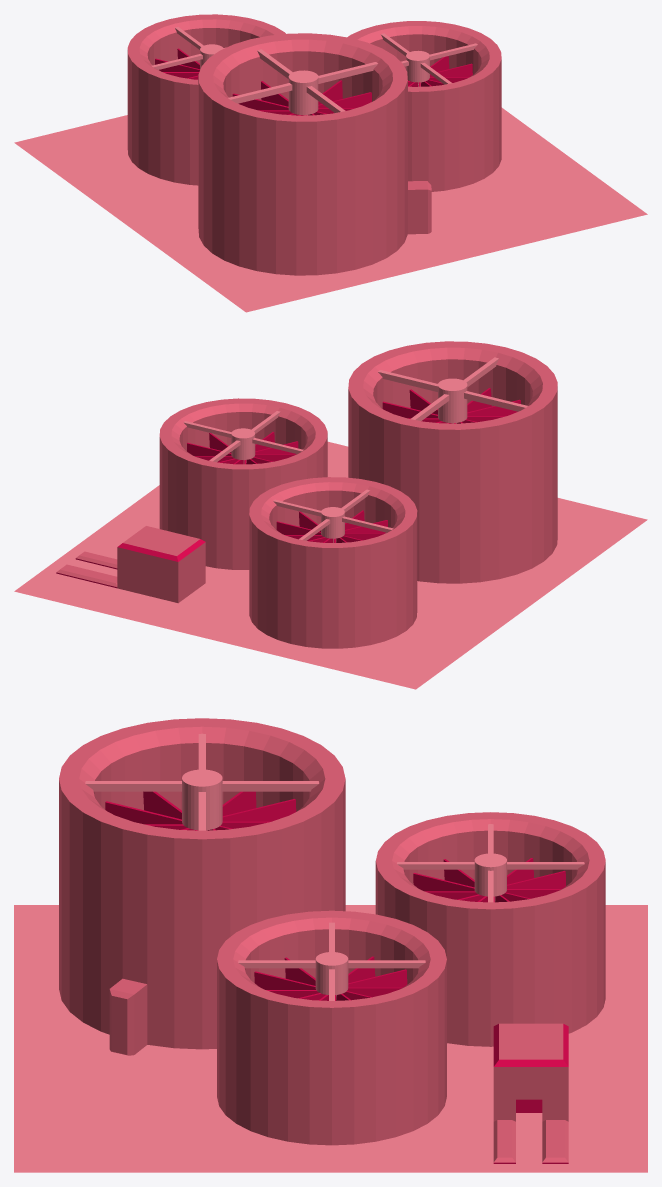
The model's file is purification_pink.fbx.
3 renders of one model, top to bottom at view 1: azimuth 30°, elevation 25°; view 2: azimuth 150°, elevation 25°; view 3: azimuth 270°, elevation 25°, orthographic. The views are drawn at different scales.
Visible parts, largest first — view 1: Cylinder.032, Plane, Cylinder.030, Cylinder.037, Cube.042, Cube.049, Cube.034, Cube.037, Cube.050, Cube.054; view 2: Cylinder.032, Plane, Cylinder.037, Cylinder.030, Plane.001, Cube.042, Cube.034, Cube.050, Cube.049, Cube.037, Cube.054; view 3: Plane, Cylinder.032, Cylinder.030, Cylinder.037, Plane.001, Cube.042, Cube.049, Cube.037, Cube.054, Cube.034, Cube.050.
Boxes of the visible parts, x1,y1,x2,y2 form: Cylinder.032: (198, 33, 431, 275); Plane: (14, 107, 647, 312); Cylinder.030: (347, 21, 501, 191); Cylinder.037: (127, 14, 285, 185); Cube.042: (228, 49, 377, 115); Cube.049: (232, 80, 371, 115); Cube.034: (381, 33, 477, 86); Cube.037: (408, 56, 472, 86); Cube.050: (151, 27, 225, 69); Cube.054: (155, 48, 199, 78); Cylinder.032: (348, 341, 557, 583); Plane: (14, 441, 647, 689); Cylinder.037: (249, 477, 417, 648); Cylinder.030: (159, 398, 327, 569); Plane.001: (56, 526, 205, 603); Cube.042: (378, 357, 527, 423); Cube.034: (183, 411, 303, 463); Cube.050: (273, 489, 393, 542); Cube.049: (382, 388, 520, 423); Cube.037: (187, 432, 298, 464); Cube.054: (285, 510, 387, 542); Plane: (14, 905, 647, 1172); Cylinder.032: (59, 718, 345, 1055); Cylinder.030: (217, 910, 446, 1145); Cylinder.037: (375, 812, 605, 1046); Plane.001: (493, 1023, 568, 1163); Cube.042: (85, 733, 319, 830); Cube.049: (105, 791, 296, 830); Cube.037: (254, 956, 407, 1000); Cube.054: (413, 858, 565, 902); Cube.034: (238, 922, 425, 1000); Cube.050: (397, 824, 584, 902).
Size of the model in its own units: 1000 by 377 by 1000.
